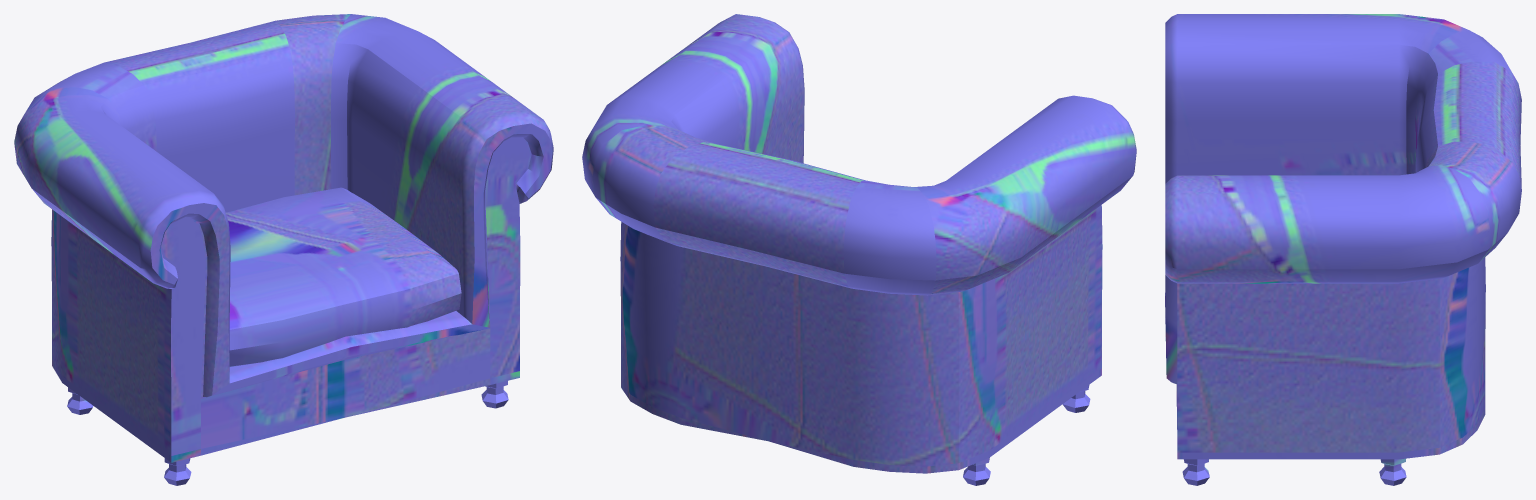
Rendered from Armchair.glb.
3 views of the same model, side by side, from view 1: azimuth 30°, elevation 25°; view 2: azimuth 150°, elevation 25°; view 3: azimuth 270°, elevation 25° (orthographic). The views are drawn at different scales.
Visible parts, largest first — view 1: Armchair; view 2: Armchair; view 3: Armchair.
Part boxes in pixels (x1,y1,x2,y2): Armchair: [14, 14, 553, 485]; Armchair: [582, 14, 1136, 485]; Armchair: [1165, 14, 1521, 485].
Size of the model in its own units: 11.94 by 8.17 by 8.76.
Materials: 1 (1 with a texture image).
